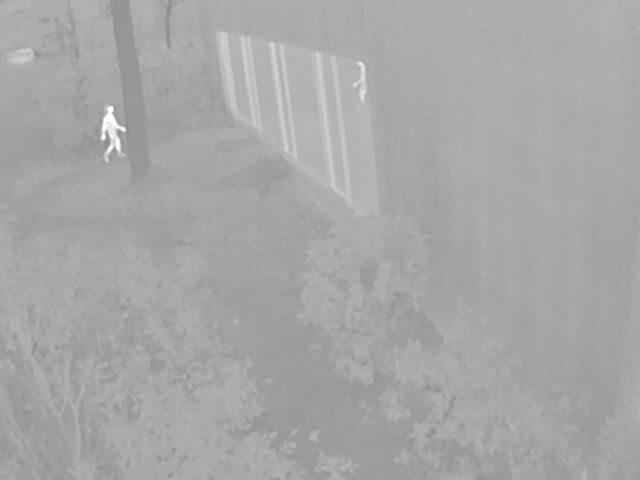person: (99, 101, 123, 163)
